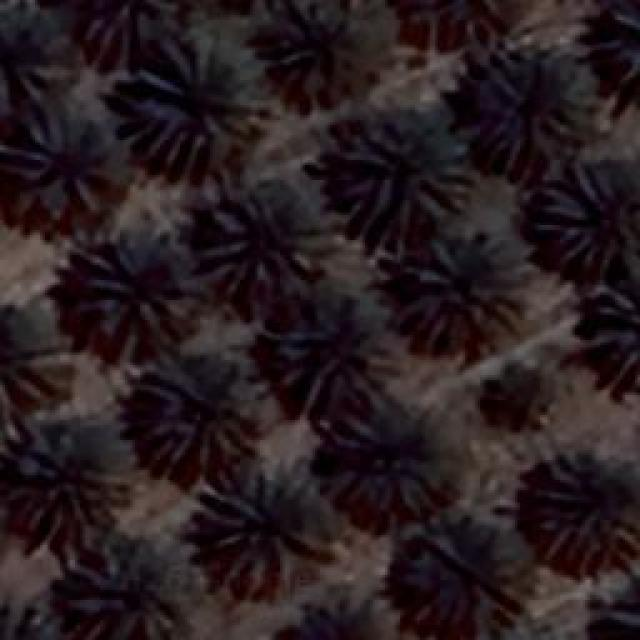PalmTree: (122, 30, 268, 168), (330, 105, 475, 230), (132, 348, 266, 468), (197, 178, 335, 292), (200, 467, 320, 595), (470, 45, 592, 170), (70, 235, 198, 353), (405, 227, 530, 345), (266, 281, 382, 404), (320, 392, 438, 510), (410, 520, 525, 638), (530, 448, 635, 568), (65, 534, 180, 638), (12, 438, 130, 538), (534, 160, 638, 270), (0, 1, 78, 119), (12, 115, 98, 210), (0, 296, 62, 423), (275, 2, 363, 90), (377, 0, 510, 52), (269, 596, 395, 640), (80, 0, 195, 48), (587, 277, 635, 385), (595, 0, 640, 110), (482, 371, 550, 441), (579, 578, 640, 640), (0, 581, 55, 640)
